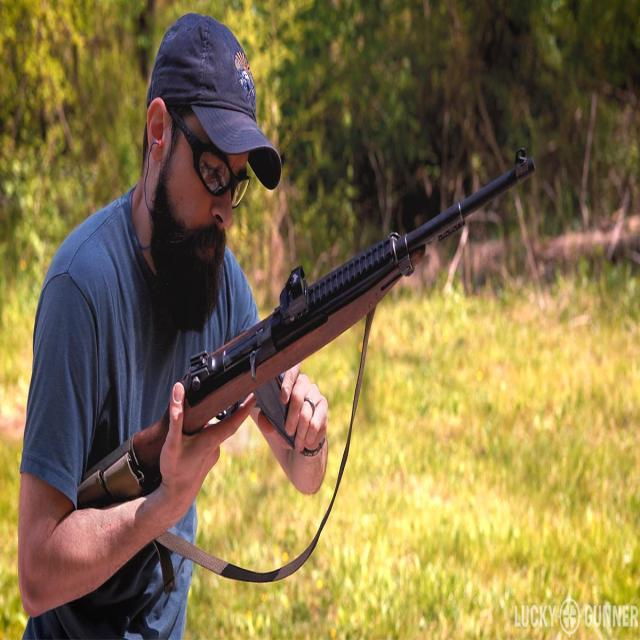Rifle: (76, 152, 535, 509)
